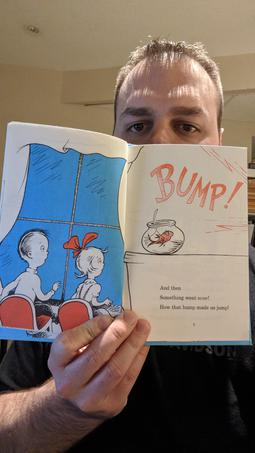text block: (152, 281, 236, 316)
